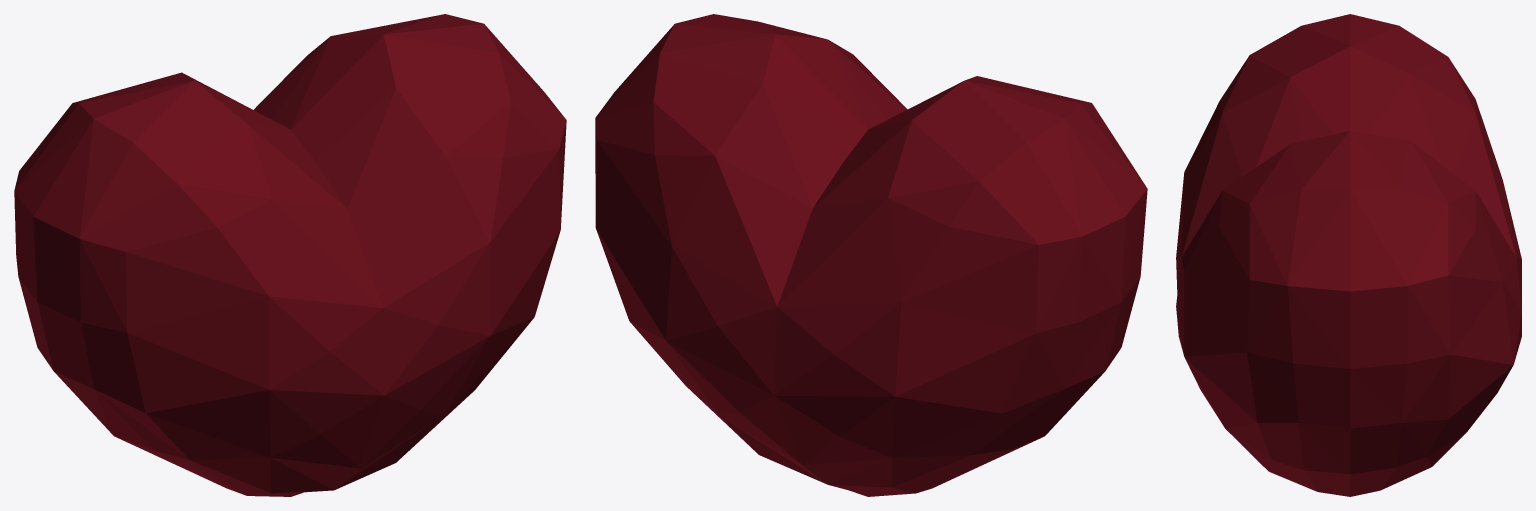
File: Heart_Low-poly.glb
3 views of the same model, side by side, from view 1: azimuth 30°, elevation 25°; view 2: azimuth 150°, elevation 25°; view 3: azimuth 270°, elevation 25° (orthographic). The views are drawn at different scales.
Parts seen in each view (by area): view 1: Cube_Material_0; view 2: Cube_Material_0; view 3: Cube_Material_0.
Boxes of the visible parts, bbox=[...] form: Cube_Material_0: bbox=[14, 14, 566, 496]; Cube_Material_0: bbox=[595, 14, 1147, 496]; Cube_Material_0: bbox=[1176, 14, 1521, 496].
Bounding box in the file's own units: 3.05 × 2.51 × 1.95.
